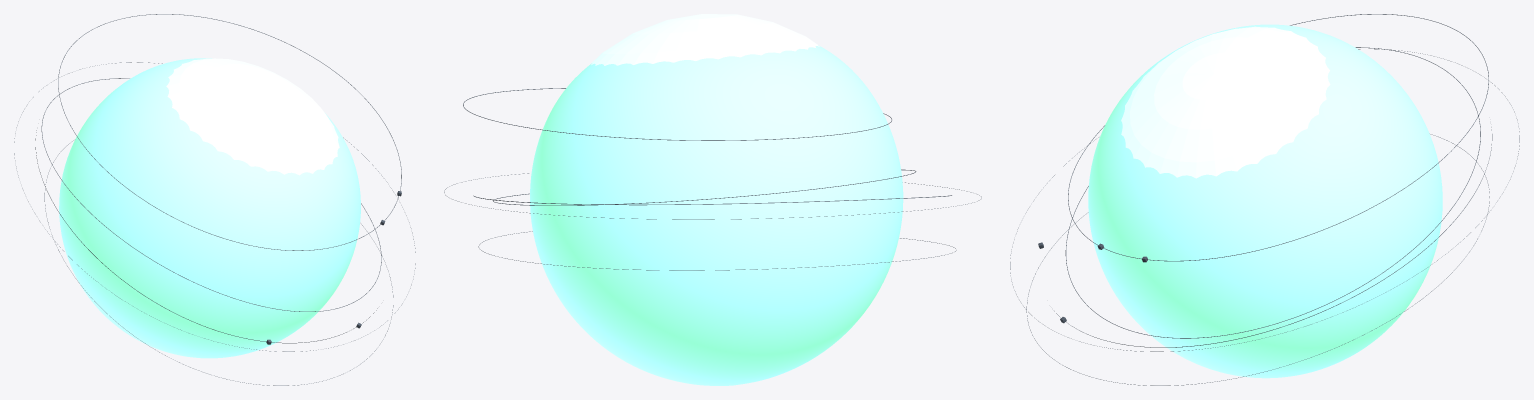
File: planet.glb
The picture shows the model from 3 angles, left to right: view 1: azimuth 30°, elevation 25°; view 2: azimuth 150°, elevation 25°; view 3: azimuth 270°, elevation 25°; orthographic projection. The views are drawn at different scales.
Visible parts, largest first — view 1: Outer_Layer-Continents, Middle_Layer-Holo_Grid, Orbit, Orbit.002, Orbit.003, Orbit.004; view 2: Outer_Layer-Continents, Middle_Layer-Holo_Grid, Orbit, Orbit.003, Orbit.002; view 3: Outer_Layer-Continents, Middle_Layer-Holo_Grid, Orbit, Orbit.002, Orbit.004, Orbit.003.
Part boxes in pixels (x1,y1,x2,y2): Outer_Layer-Continents: (59,58,360,358); Middle_Layer-Holo_Grid: (166,58,339,175); Orbit: (58,14,401,250); Orbit.002: (41,78,381,311); Orbit.003: (35,130,377,343); Orbit.004: (44,140,393,385); Outer_Layer-Continents: (530,45,903,385); Middle_Layer-Holo_Grid: (591,14,819,65); Orbit: (463,88,891,140); Orbit.003: (473,195,951,205); Orbit.002: (493,169,916,205); Outer_Layer-Continents: (1088,24,1442,378); Middle_Layer-Holo_Grid: (1121,26,1330,178); Orbit: (1068,14,1488,261); Orbit.002: (1065,47,1480,338); Orbit.004: (1026,134,1489,385); Orbit.003: (1054,127,1492,347).
Bounding box in the file's own units: 22.6 × 16.46 × 23.76.
